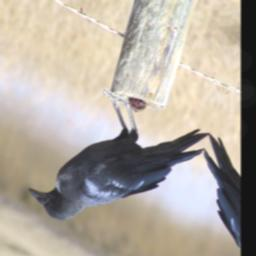Crow: (19, 67, 210, 256)
